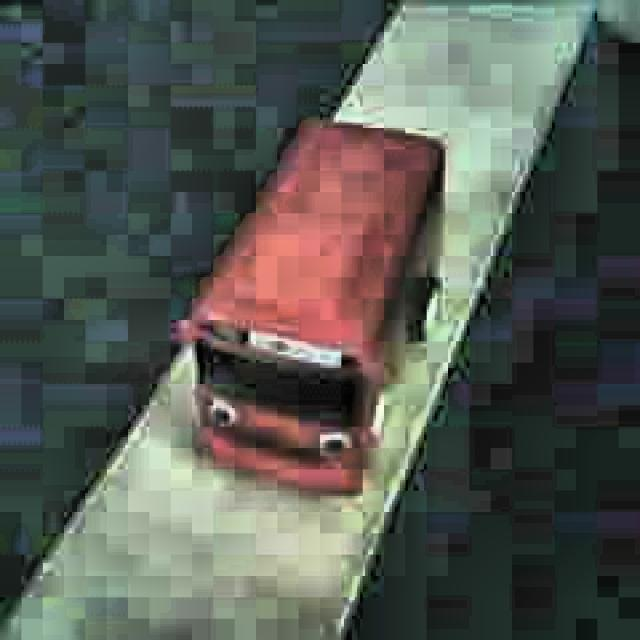bus: (171, 117, 445, 499)
